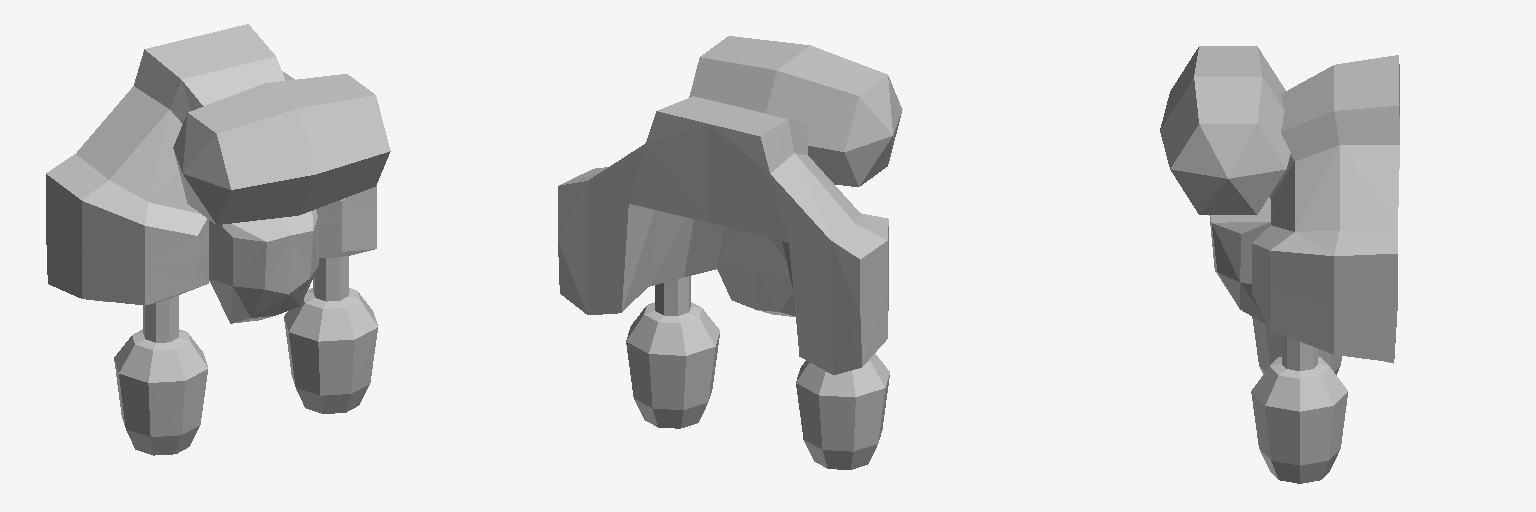
The model's file is flame-thrower-03.obj.
3 renders of one model, left to right at view 1: azimuth 30°, elevation 25°; view 2: azimuth 150°, elevation 25°; view 3: azimuth 270°, elevation 25°, orthographic.
Visible parts, largest first — view 1: flame_thrower_03; view 2: flame_thrower_03; view 3: flame_thrower_03.
Part boxes in pixels (left/top/right/bottom): flame_thrower_03: left=46, top=24, right=390, bottom=455; flame_thrower_03: left=558, top=36, right=902, bottom=469; flame_thrower_03: left=1160, top=46, right=1399, bottom=483.
Size of the model in its own units: 4.15 by 4.7 by 2.85.